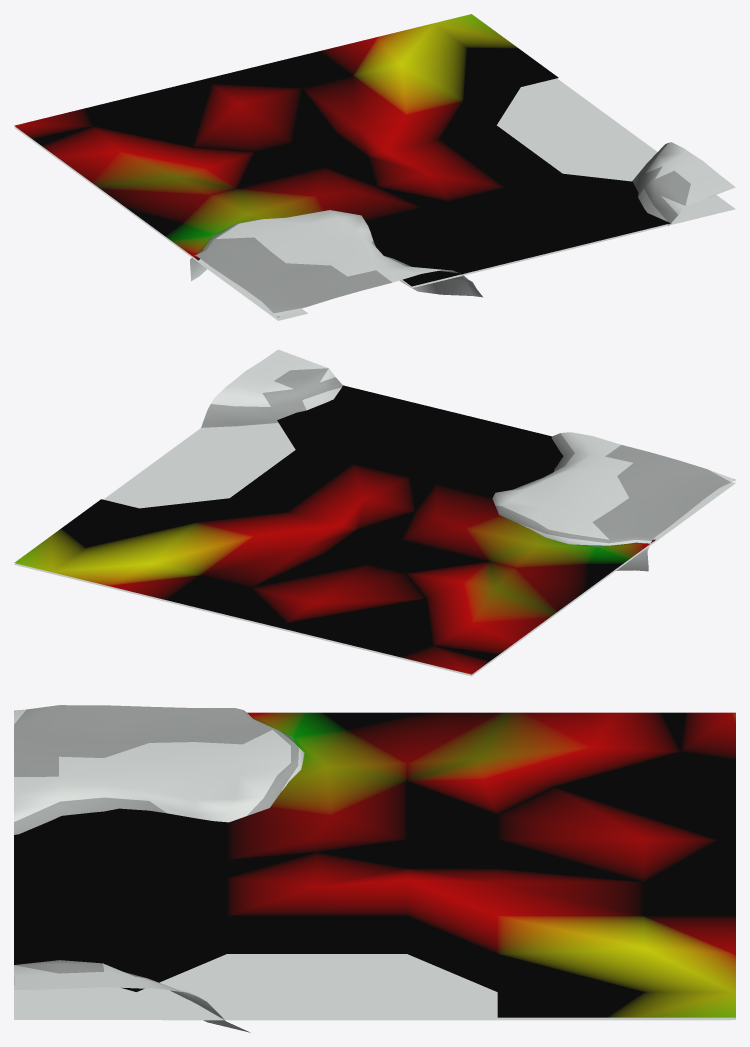
3 renders of one model, top to bottom at view 1: azimuth 30°, elevation 25°; view 2: azimuth 150°, elevation 25°; view 3: azimuth 270°, elevation 25°, orthographic. The views are drawn at different scales.
Visible parts, largest first — view 1: G:\FFXIV-MapTools\exports\g3f2\bg\ex2\01_gyr_g3\fld\g3f2\bgp (×7); view 2: G:\FFXIV-MapTools\exports\g3f2\bg\ex2\01_gyr_g3\fld\g3f2\bgp (×7); view 3: G:\FFXIV-MapTools\exports\g3f2\bg\ex2\01_gyr_g3\fld\g3f2\bgp (×6).
Part boxes in pixels (x1,y1,x2,y2): G:\FFXIV-MapTools\exports\g3f2\bg\ex2\01_gyr_g3\fld\g3f2\bgp (×7): (14,14,735,320); G:\FFXIV-MapTools\exports\g3f2\bg\ex2\01_gyr_g3\fld\g3f2\bgp (×7): (14,349,735,676); G:\FFXIV-MapTools\exports\g3f2\bg\ex2\01_gyr_g3\fld\g3f2\bgp (×6): (14,705,735,1032).
Size of the model in its own units: 128 by 16.47 by 128.
